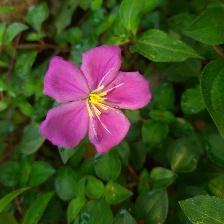malabar melastome: (40, 44, 155, 157)
